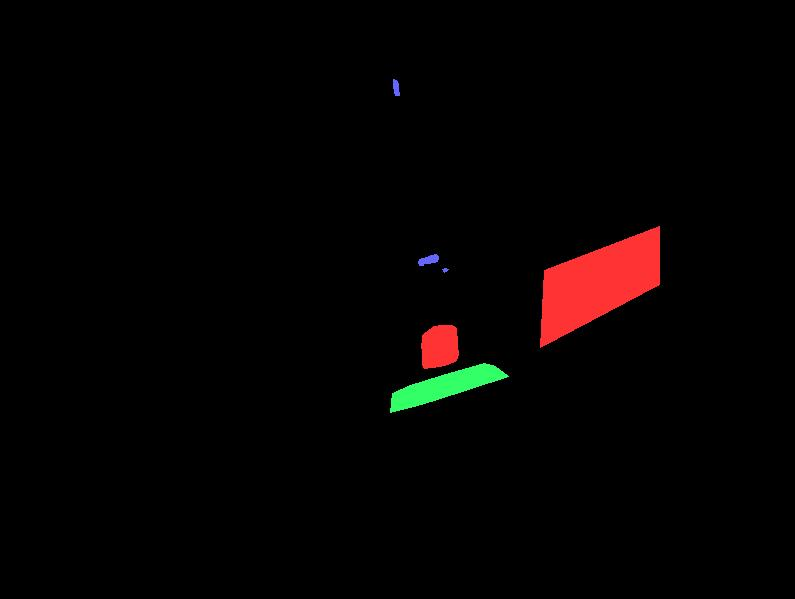Broken part: (390, 363, 508, 412)
Missing part: (540, 226, 659, 347), (422, 325, 458, 368), (421, 328, 451, 356)
Scratch: (418, 254, 438, 265), (393, 79, 399, 95), (442, 268, 448, 272)
